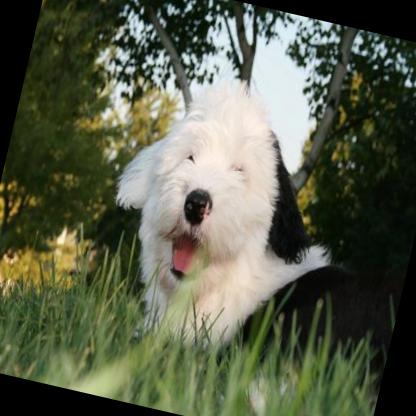Old_English_sheepdog: (69, 56, 396, 416)
